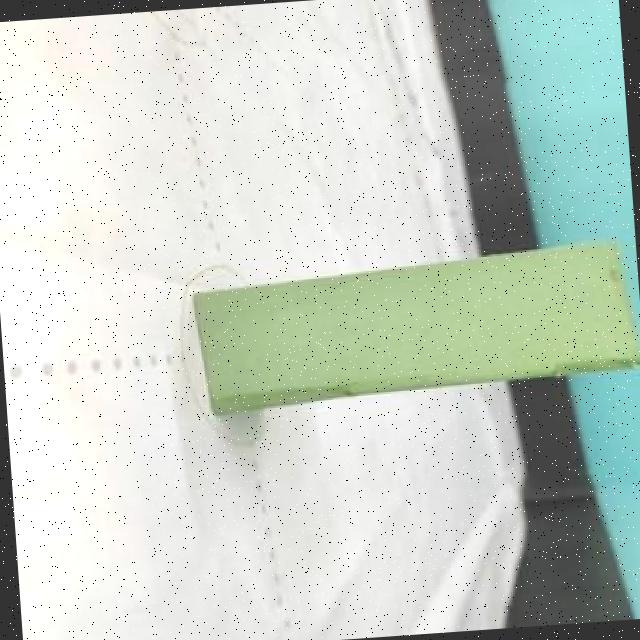greenbox: (187, 234, 640, 413)
